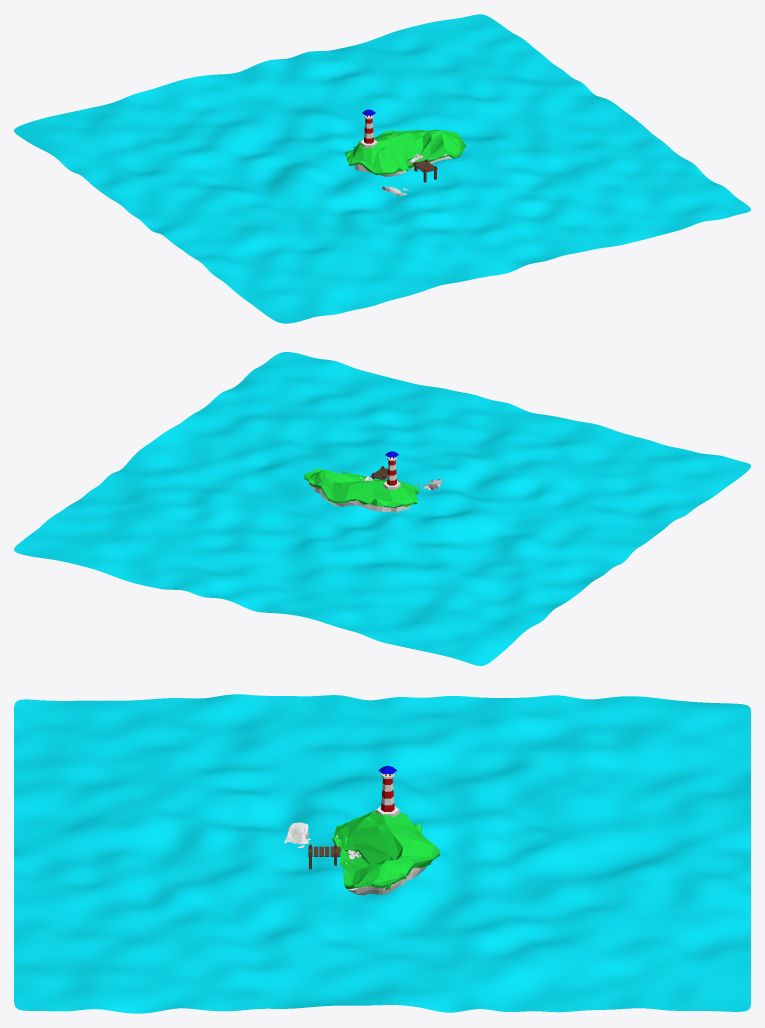
The model's file is island.fbx.
3 views of the same model, one above another, from view 1: azimuth 30°, elevation 25°; view 2: azimuth 150°, elevation 25°; view 3: azimuth 270°, elevation 25° (orthographic). The views are drawn at different scales.
Visible parts, largest first — view 1: Sea, Трава; view 2: Sea, Трава; view 3: Sea, Трава, Lighthouse, Island.
Part boxes in pixels (x1=…): Sea: x1=14, y1=14, x2=750, y2=323; Трава: x1=345, y1=129, x2=466, y2=175; Sea: x1=14, y1=352, x2=750, y2=665; Трава: x1=304, y1=468, x2=419, y2=507; Sea: x1=14, y1=694, x2=750, y2=1013; Трава: x1=332, y1=810, x2=439, y2=890; Lighthouse: x1=376, y1=765, x2=399, y2=816; Island: x1=336, y1=834, x2=426, y2=895.
Size of the model in its own units: 4572 by 590 by 4572.
